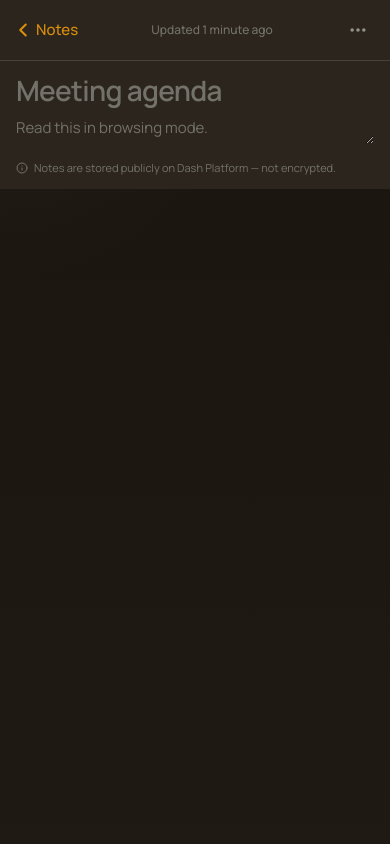
NoteEditor mobile refresh › shows mobile note metadata from the Info action
Click the button named "note actions" at (358,30), box [338,10,378,50]
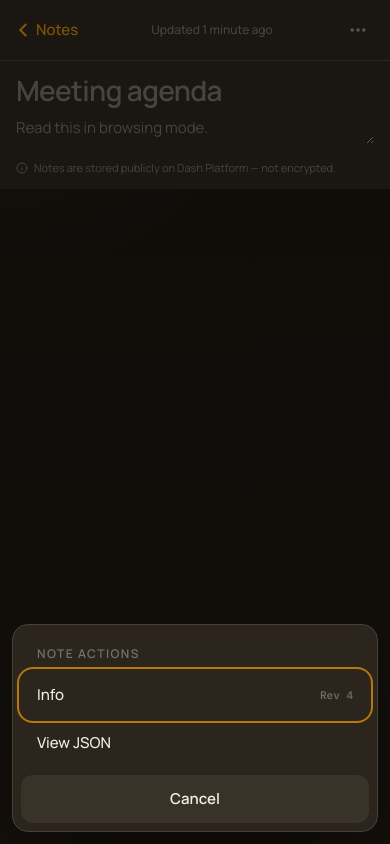
Click the button "Info Rev 4" at (50,694), box [21,671,369,719]
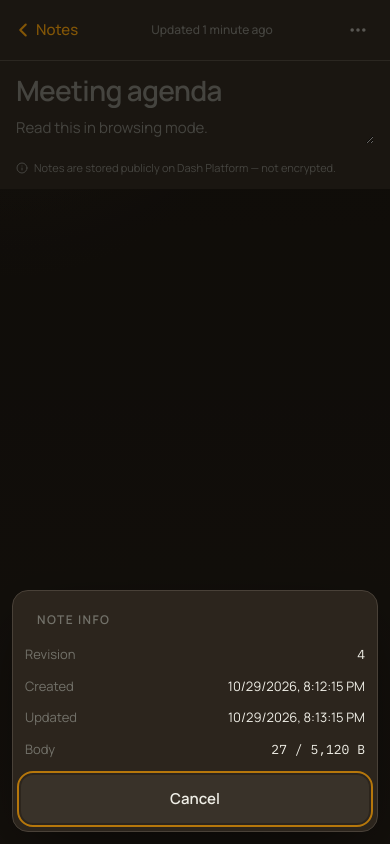
Check: the text "4" is shown, box [357,646,365,663]
Check: the text "Revision" is shown, box [25,645,77,664]
Check: the text "Created" is shown, box [25,676,77,696]
